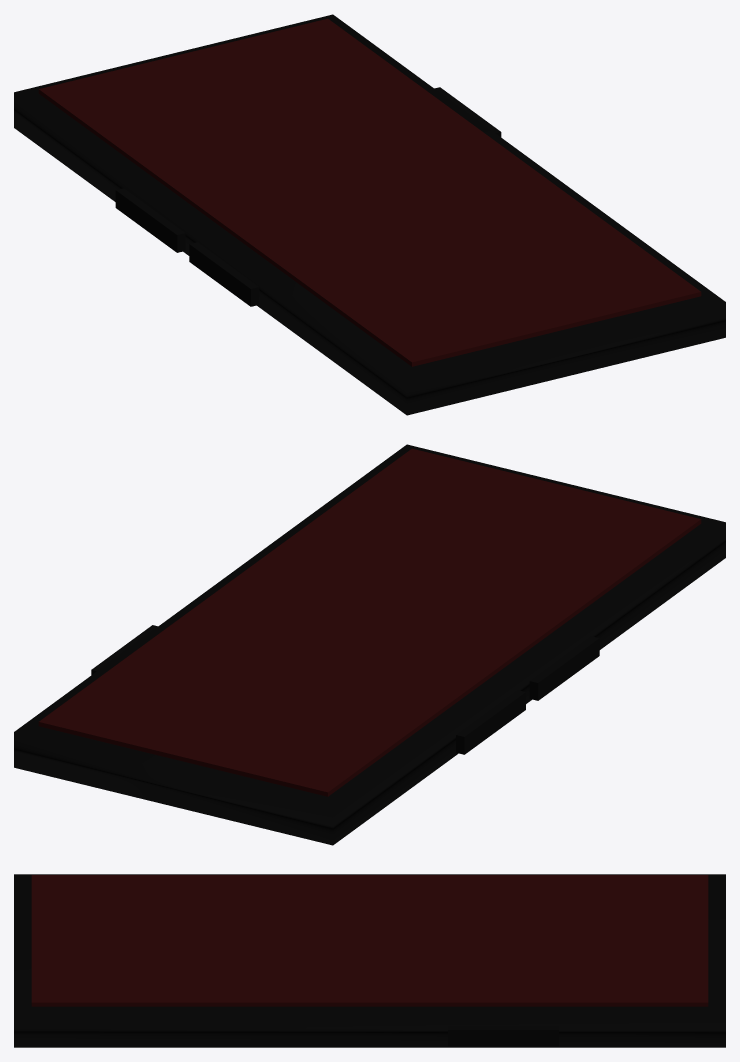
The model's file is phone.glb.
3 renders of one model, top to bottom at view 1: azimuth 30°, elevation 25°; view 2: azimuth 150°, elevation 25°; view 3: azimuth 270°, elevation 25°, orthographic. The views are drawn at different scales.
Visible parts, largest first — view 1: PhoneScreen, PhoneBody, VolumeUp, VolumeDown; view 2: PhoneScreen, PhoneBody, VolumeDown, VolumeUp; view 3: PhoneScreen, PhoneBody, PowerButton.
Boxes of the visible parts, <box> form: PhoneScreen: <box>38,18,701,366</box>; PhoneBody: <box>14,14,725,415</box>; VolumeUp: <box>115,188,185,252</box>; VolumeDown: <box>189,242,259,306</box>; PhoneScreen: <box>38,448,701,796</box>; PhoneBody: <box>14,444,725,845</box>; VolumeDown: <box>529,636,599,700</box>; VolumeUp: <box>456,690,525,754</box>; PhoneScreen: <box>31,875,708,1006</box>; PhoneBody: <box>14,874,725,1047</box>; PowerButton: <box>448,1026,558,1046</box>.
Bounding box in the file's own units: 0.082 × 0.0145 × 0.16.
